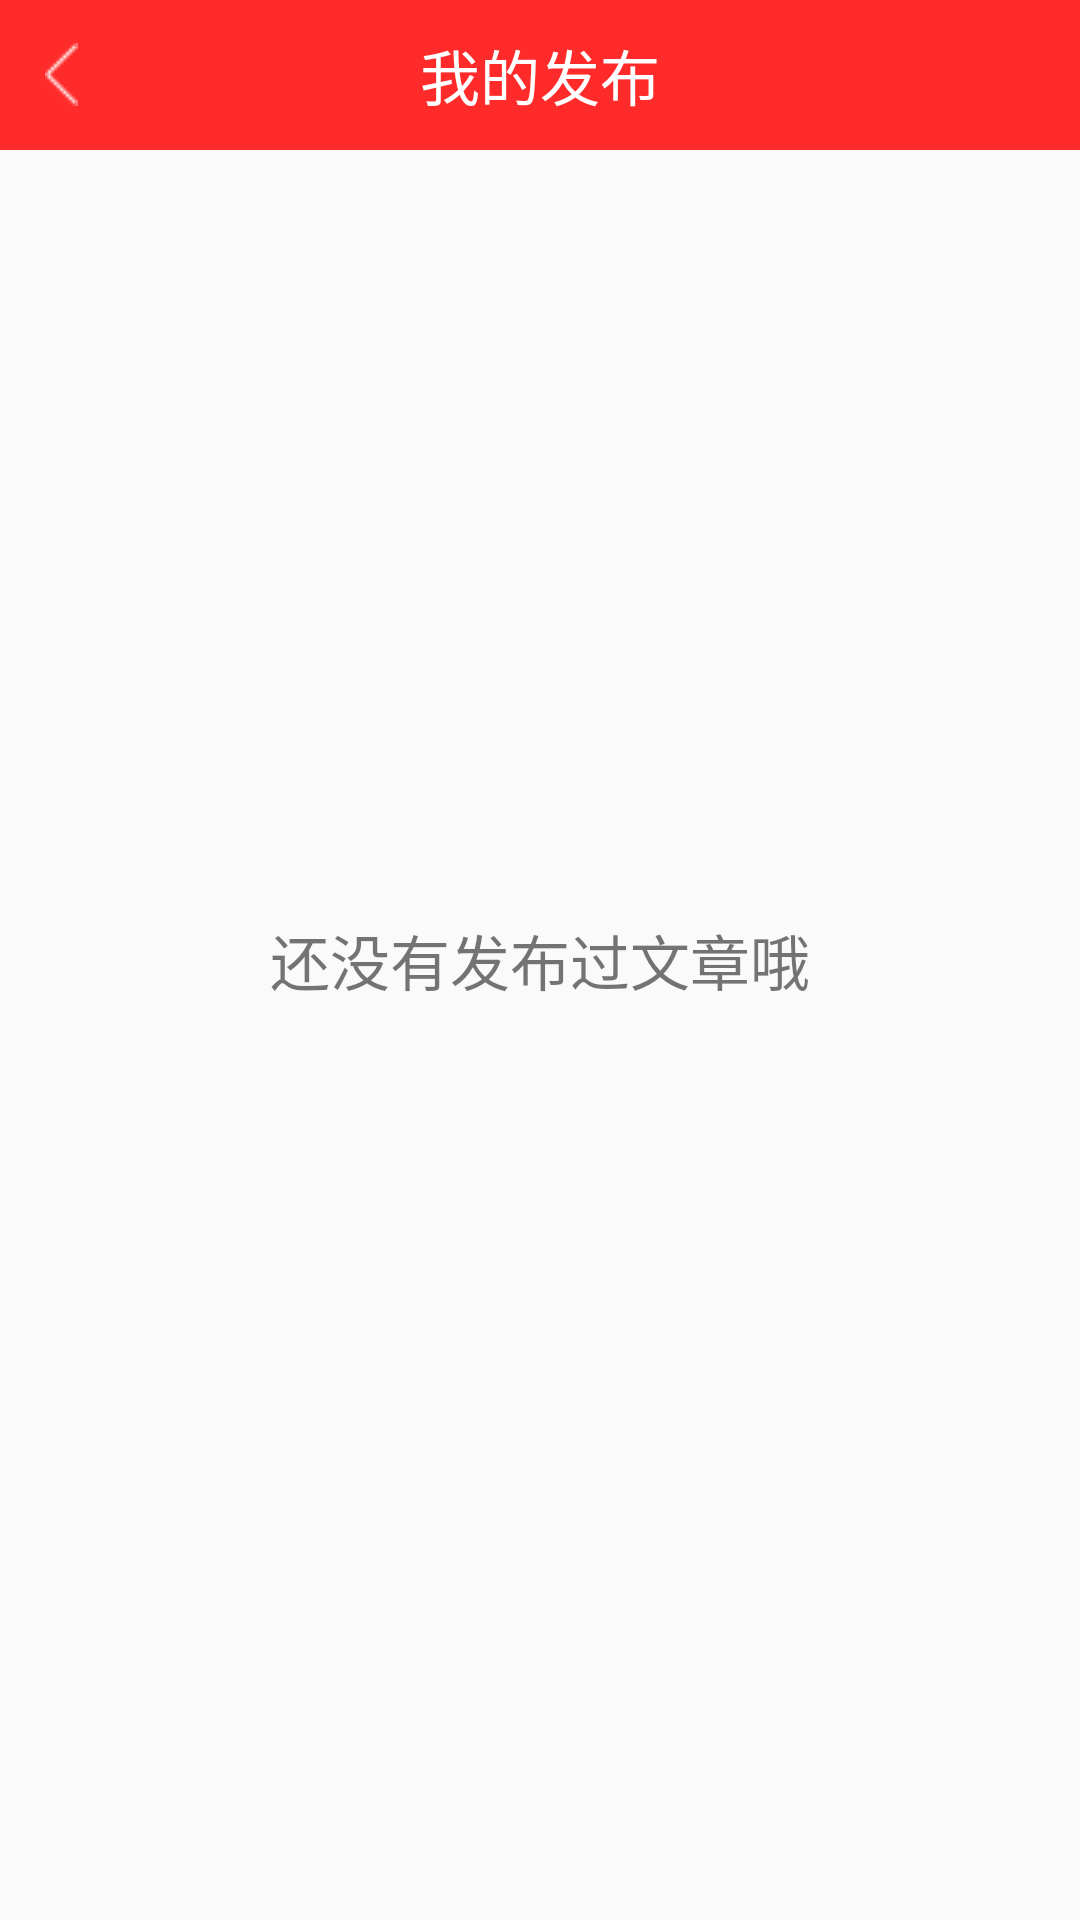

Where to tap for icons on this 1080 x 1920 app screen, as (x,y):
fanhui: (61,74)
